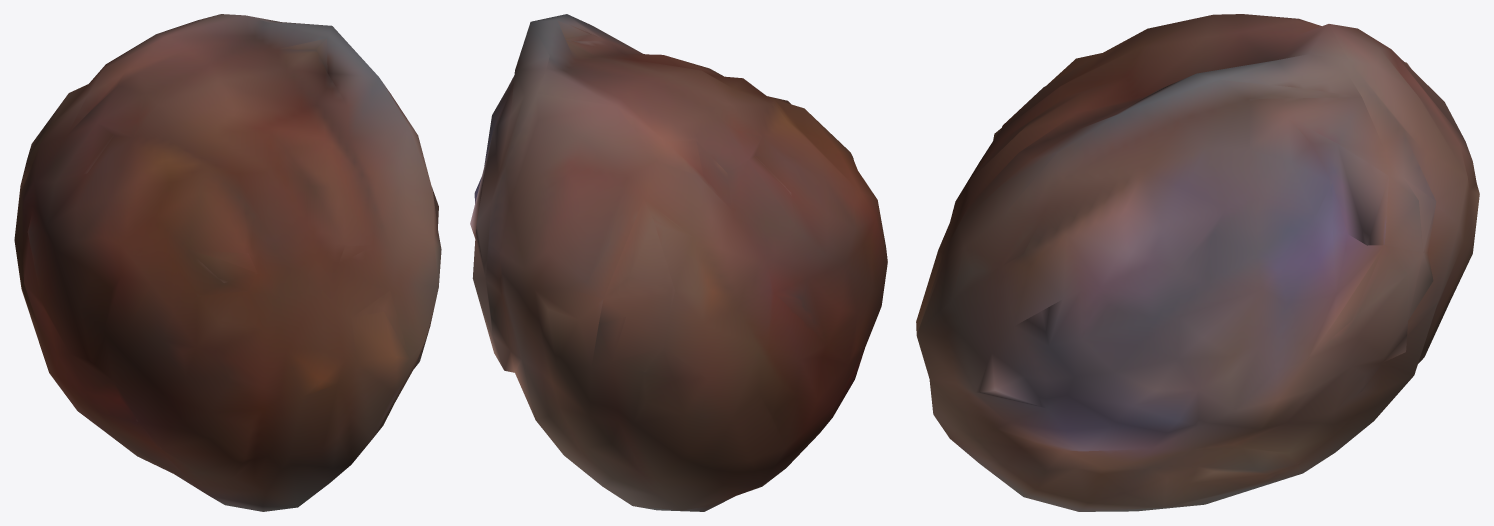
The model's file is lantern_lens.glb.
3 views of the same model, side by side, from view 1: azimuth 30°, elevation 25°; view 2: azimuth 150°, elevation 25°; view 3: azimuth 270°, elevation 25° (orthographic). The views are drawn at different scales.
Parts seen in each view (by area): view 1: model; view 2: model; view 3: model.
Boxes of the visible parts, left/top/right/bottom form: model: left=14, top=14, right=441, bottom=511; model: left=470, top=14, right=887, bottom=511; model: left=916, top=14, right=1479, bottom=511.
Size of the model in its own units: 0.314 by 0.3975 by 0.3934.
1 material, 1 textured.
